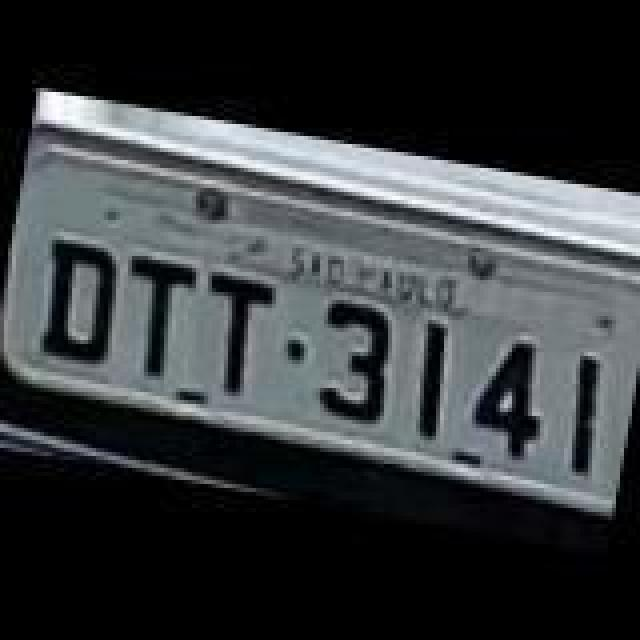1: (554, 344, 614, 472), (402, 314, 462, 438)
3: (302, 290, 402, 430)
4: (460, 328, 556, 464)
D: (28, 228, 132, 372)
T: (104, 244, 200, 380), (184, 266, 280, 398)
